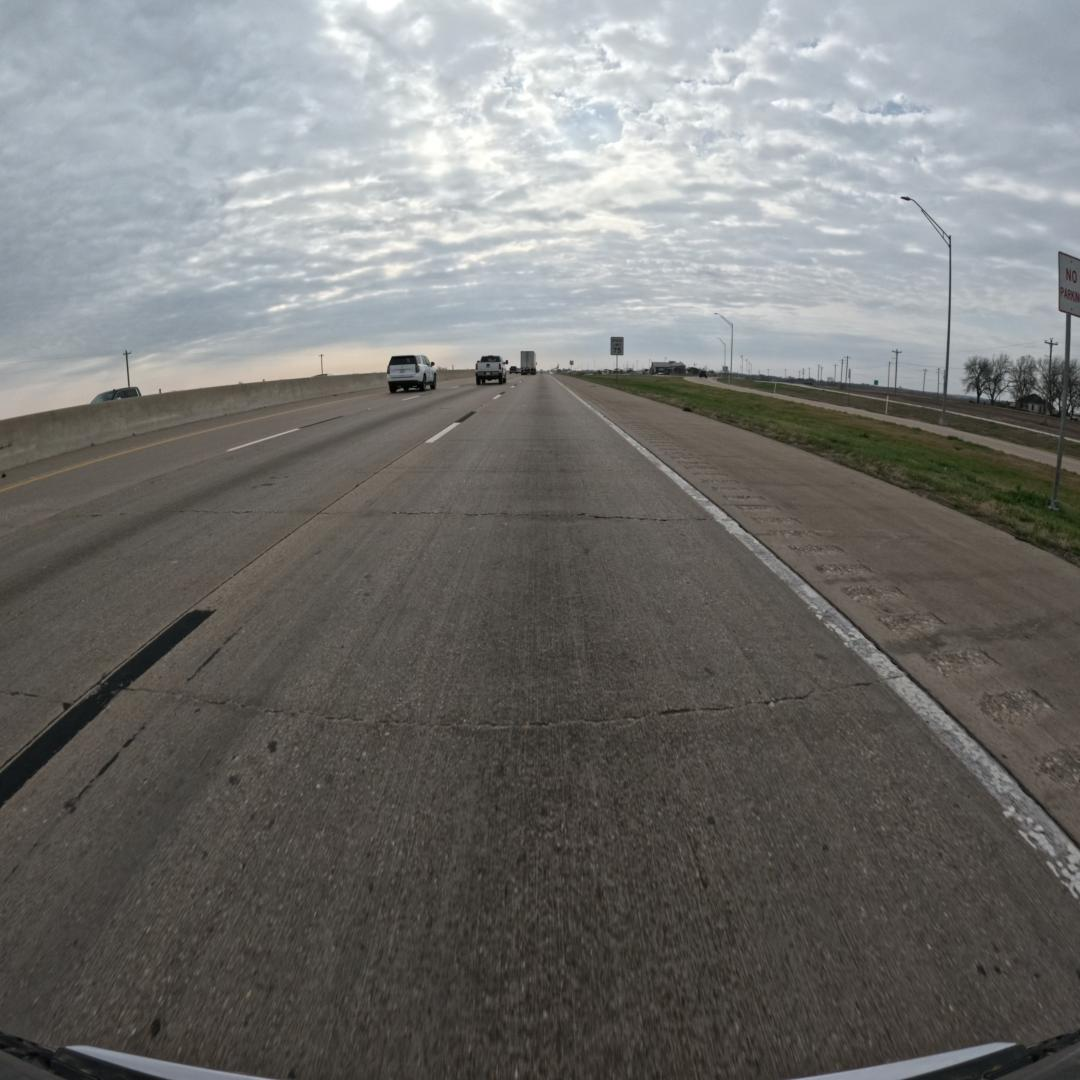lane0: (0, 377, 1080, 1077)
lane1: (0, 385, 505, 765)
